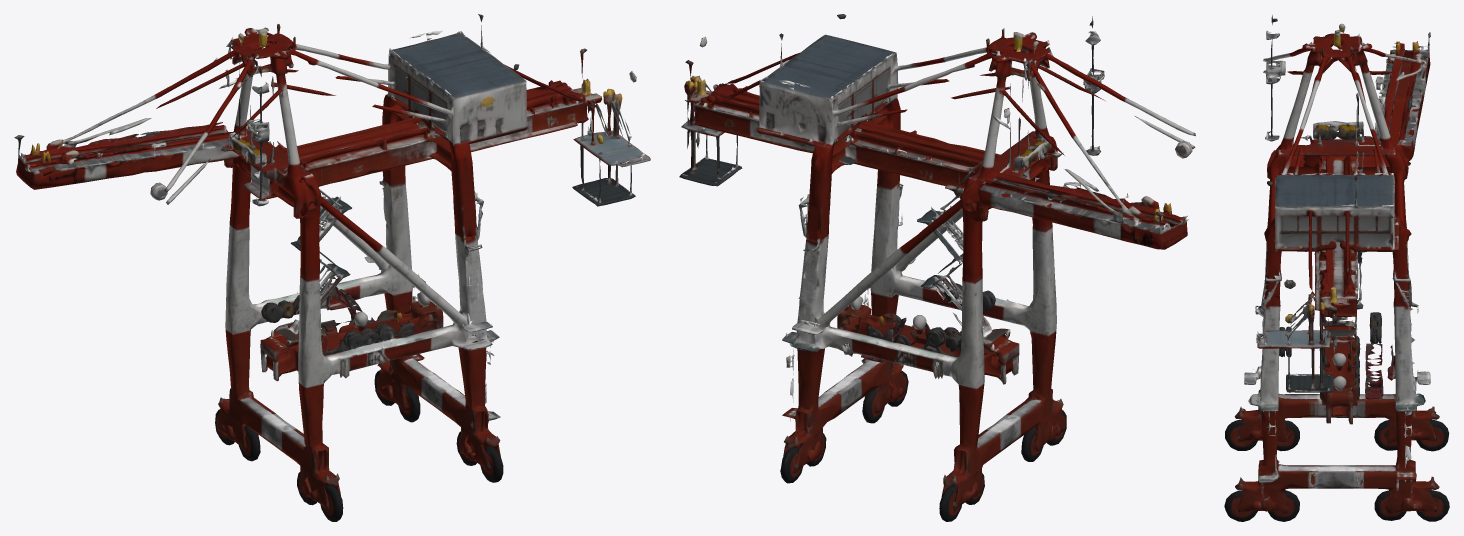
Rendered from lm_crane.glb.
3 renders of one model, left to right at view 1: azimuth 30°, elevation 25°; view 2: azimuth 150°, elevation 25°; view 3: azimuth 270°, elevation 25°, orthographic. The views are drawn at different scales.
Parts seen in each view (by area): view 1: world; view 2: world; view 3: world.
Boxes of the visible parts, <box> form: world: <box>14,14,650,521</box>; world: <box>679,14,1195,521</box>; world: <box>1224,15,1449,521</box>.
Bounding box in the file's own units: 1 × 0.7983 × 0.3946.
1 material, 1 textured.
